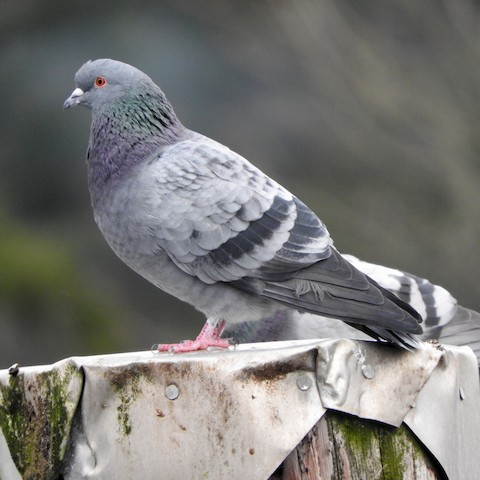pigeon: (57, 53, 445, 360)
